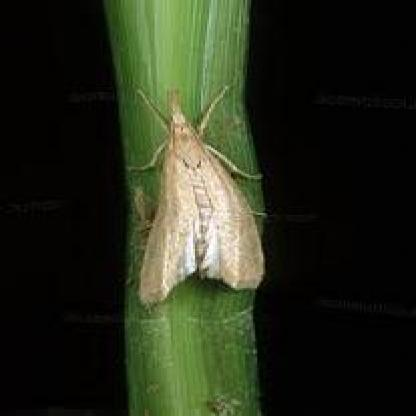stem-borer: (134, 87, 244, 304)
